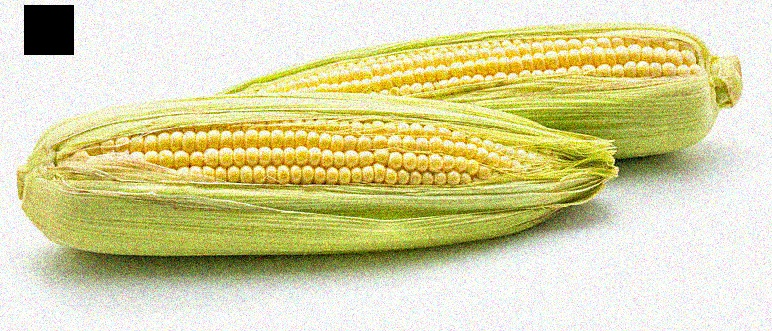corn: (10, 95, 621, 252), (196, 22, 742, 158)
